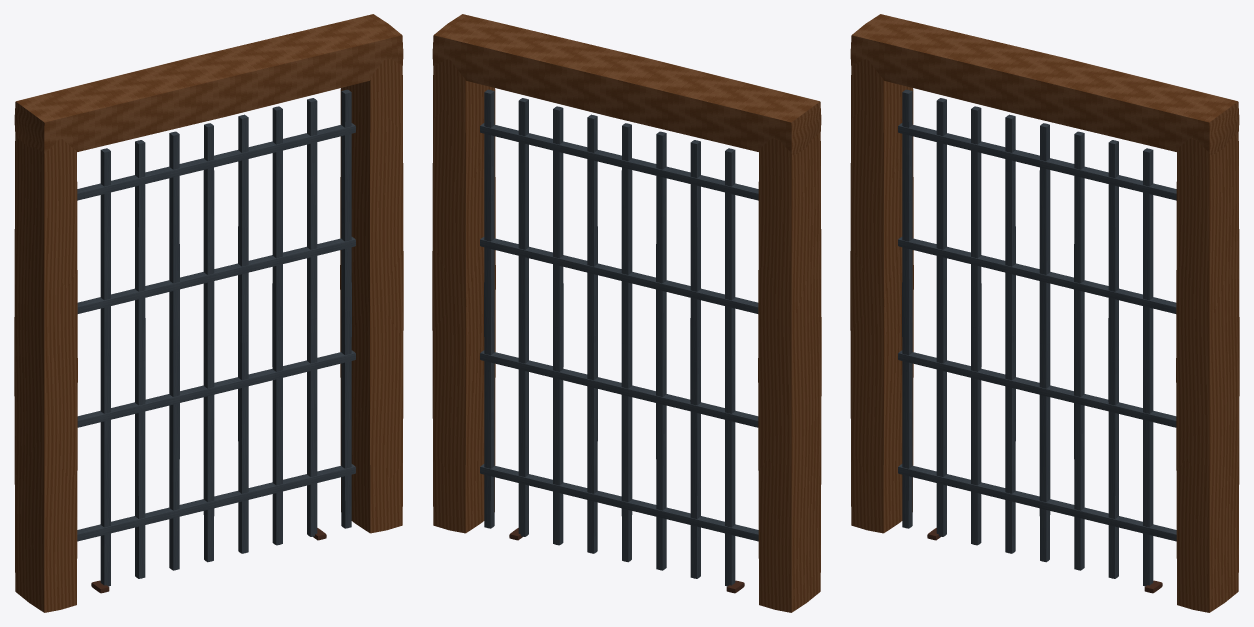
3 renders of one model, left to right at view 1: azimuth 30°, elevation 25°; view 2: azimuth 150°, elevation 25°; view 3: azimuth 330°, elevation 25°, orthographic.
Parts seen in each view (by area): view 1: wood.0, wood.1, wood.2, iron.7, iron.11, iron.5, iron.10, iron.8, iron.6, iron.9, iron.4, iron.12 (+3 smaller); view 2: wood.0, wood.1, wood.2, iron.7, iron.11, iron.5, iron.8, iron.10, iron.6, iron.9, iron.4, iron.12 (+3 smaller); view 3: wood.1, wood.0, wood.2, iron.7, iron.3, iron.9, iron.4, iron.6, iron.8, iron.5, iron.10, iron.12 (+3 smaller).
Part boxes in pixels (x1,y1,x2,y2): wood.0: (14, 133, 77, 612); wood.1: (340, 58, 403, 533); wood.2: (14, 14, 403, 153); iron.7: (203, 123, 214, 562); iron.11: (341, 89, 351, 528); iron.5: (135, 140, 145, 578); iron.10: (307, 98, 317, 536); iron.8: (238, 114, 248, 553); iron.6: (169, 131, 179, 570); iron.9: (272, 106, 282, 545); iron.4: (100, 148, 110, 586); iron.12: (77, 464, 355, 541); wood.0: (758, 132, 821, 612); wood.1: (432, 59, 495, 533); wood.2: (432, 14, 821, 155); iron.7: (621, 123, 632, 562); iron.11: (484, 89, 494, 528); iron.5: (690, 140, 700, 578); iron.8: (587, 114, 597, 553); iron.10: (518, 98, 528, 536); iron.6: (656, 131, 666, 570); iron.9: (553, 106, 563, 545); iron.4: (725, 148, 735, 586); iron.12: (480, 464, 758, 541); wood.1: (1176, 132, 1239, 612); wood.0: (850, 59, 913, 533); wood.2: (850, 14, 1239, 155); iron.7: (1039, 123, 1050, 562); iron.3: (902, 89, 912, 528); iron.9: (1108, 140, 1118, 578); iron.4: (936, 98, 946, 536); iron.6: (1005, 114, 1015, 553); iron.8: (1074, 131, 1084, 570); iron.5: (971, 106, 981, 545); iron.10: (1143, 148, 1153, 586); iron.12: (898, 464, 1176, 541).
Bounding box in the file's own units: 2 × 2.62 × 0.3.
Materials: 3 (3 with a texture image).
